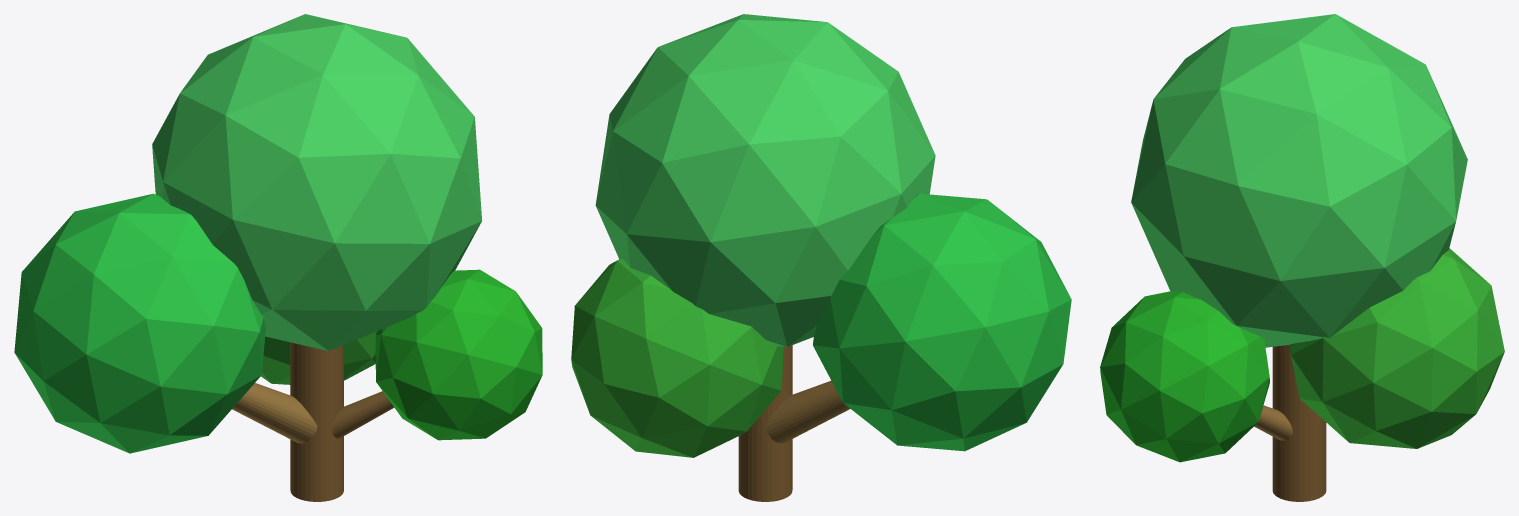
The model's file is 矮橡树2.fbx.
The picture shows the model from 3 angles, left to right: view 1: azimuth 30°, elevation 25°; view 2: azimuth 150°, elevation 25°; view 3: azimuth 270°, elevation 25°; orthographic projection.
Visible parts, largest first — view 1: Icosphere, Icosphere.002, Icosphere.001, Cylinder, Cylinder.001, Icosphere.003, Cylinder.002; view 2: Icosphere, Icosphere.002, Icosphere.003, Cylinder, Cylinder.001; view 3: Icosphere, Icosphere.003, Icosphere.001, Cylinder, Cylinder.002.
Boxes of the visible parts, x1,y1,x2,y2 form: Icosphere: (152,14,482,351); Icosphere.002: (14,193,265,453); Icosphere.001: (375,269,542,440); Cylinder: (290,342,343,501); Cylinder.001: (232,383,317,443); Icosphere.003: (261,331,376,384); Cylinder.002: (332,391,393,438); Icosphere: (595,14,935,346); Icosphere.002: (813,193,1071,451); Icosphere.003: (571,258,784,457); Cylinder: (738,345,792,501); Cylinder.001: (765,381,850,443); Icosphere: (1131,14,1467,347); Icosphere.003: (1289,248,1504,448); Icosphere.001: (1100,291,1269,462); Cylinder: (1272,345,1326,501); Cylinder.002: (1254,405,1292,440).
Size of the model in its own units: 3 by 2.97 by 2.35.
